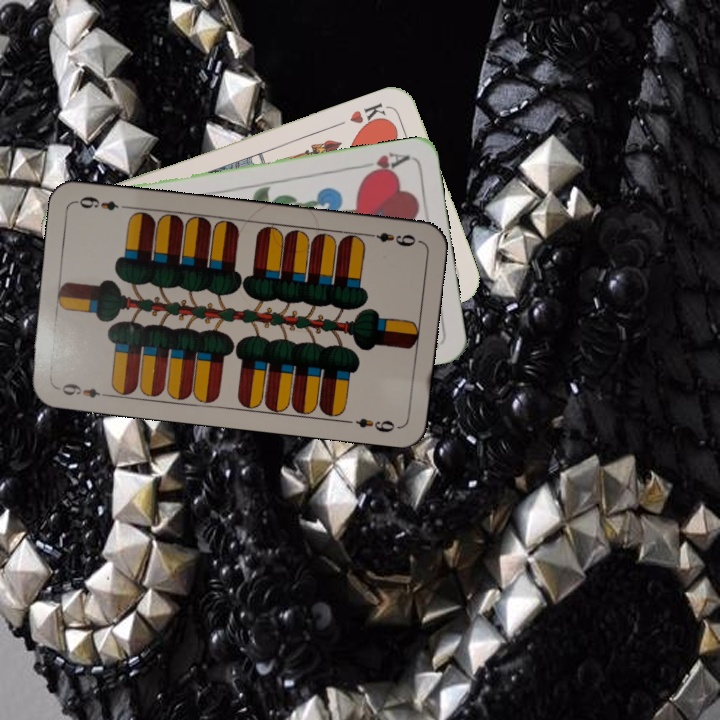E9: (53, 379, 112, 401), (362, 228, 418, 250)
HA: (353, 148, 412, 179)
HK: (346, 99, 393, 132)
